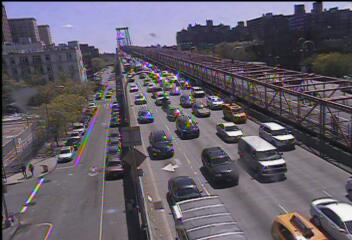neg: (243, 127, 261, 151), (133, 90, 147, 109), (188, 85, 201, 102), (160, 135, 172, 151), (125, 161, 135, 176)
pos: (15, 160, 29, 178), (25, 161, 39, 178)
